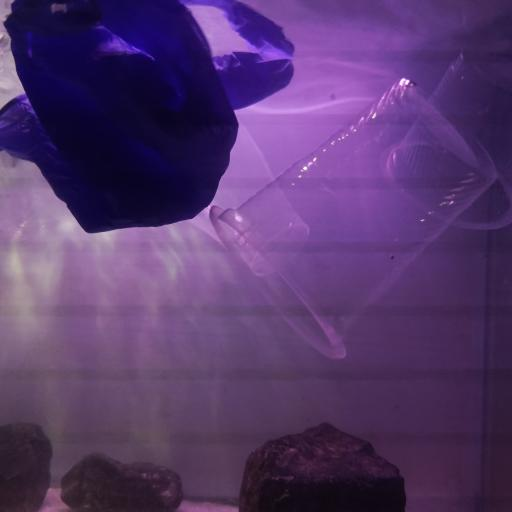glove: (0, 0, 295, 234)
plastic_cup: (208, 76, 497, 364), (377, 50, 512, 232)
